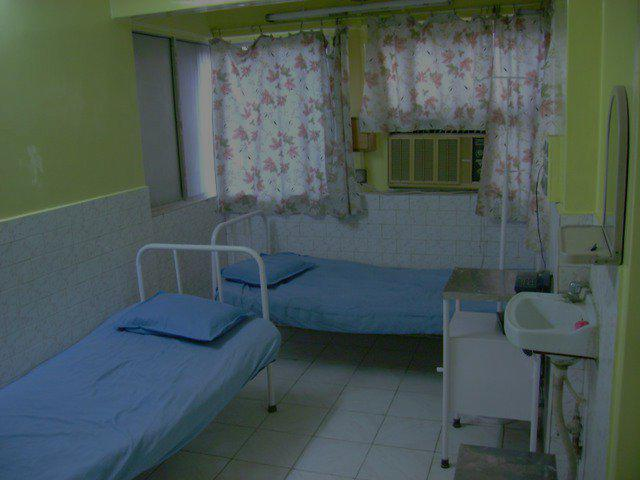Lavamanos: (505, 297, 598, 473)
